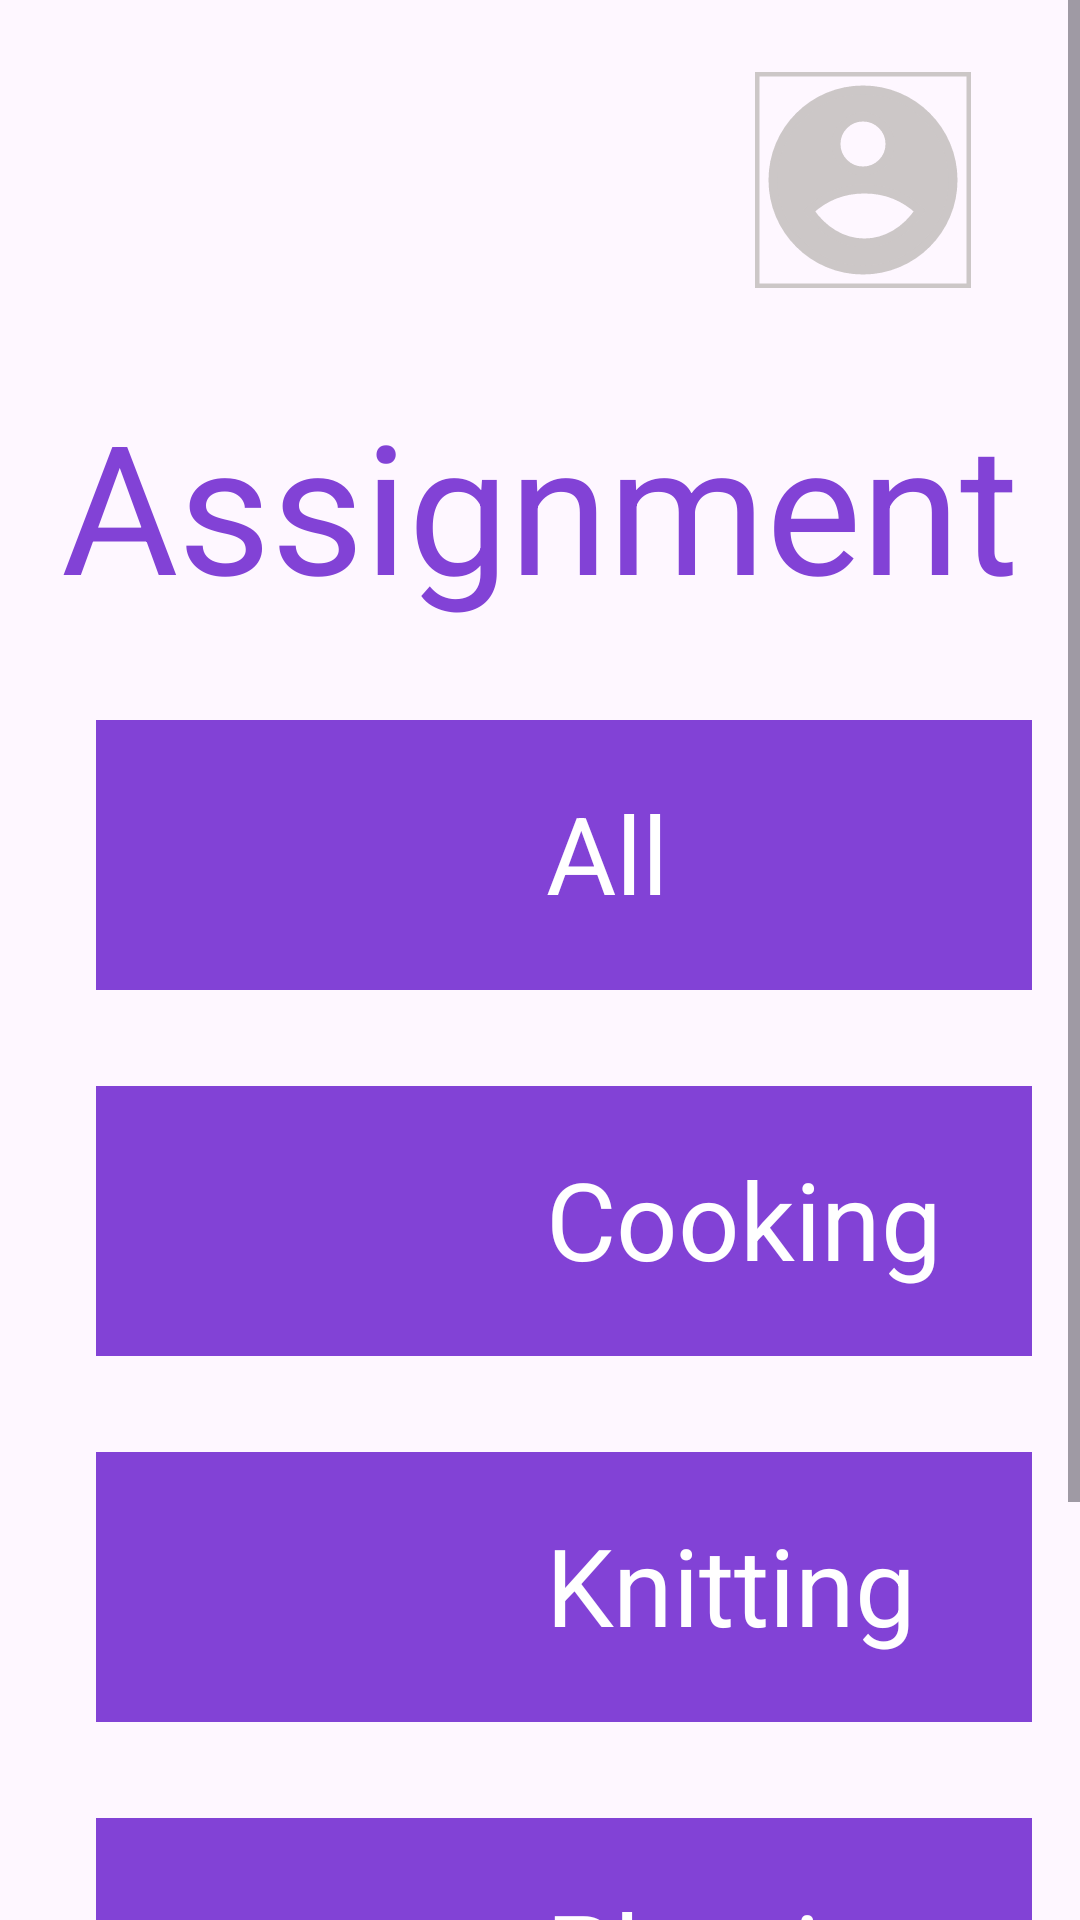

Where to tap for icons on this 1080w x 1920h app screen, as (x=x, y=y):
account circle: (x=863, y=180)
